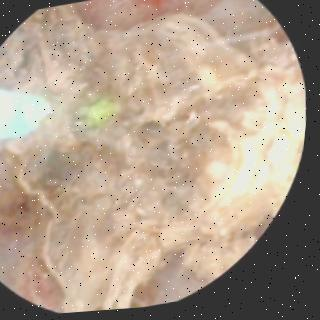fiber: (0, 90, 48, 136)
laser: (92, 101, 114, 121)
stone: (0, 4, 304, 314)
